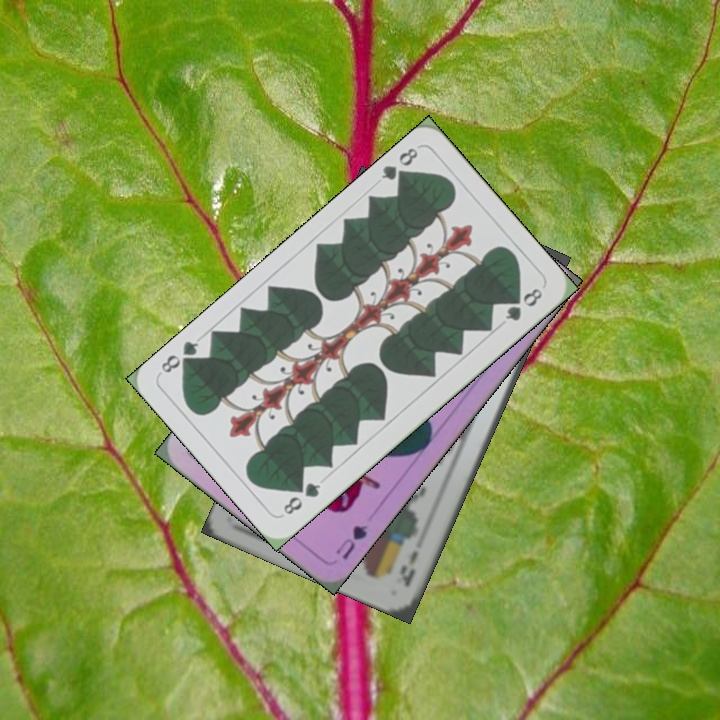EK: (395, 545, 421, 590)
G8: (377, 143, 421, 187), (279, 478, 324, 518)
GU: (331, 521, 371, 562)
